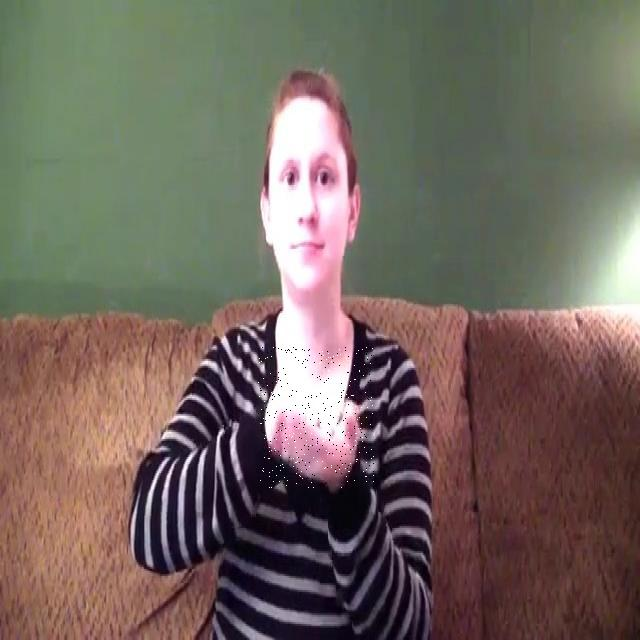chicken: (258, 347, 374, 488)
